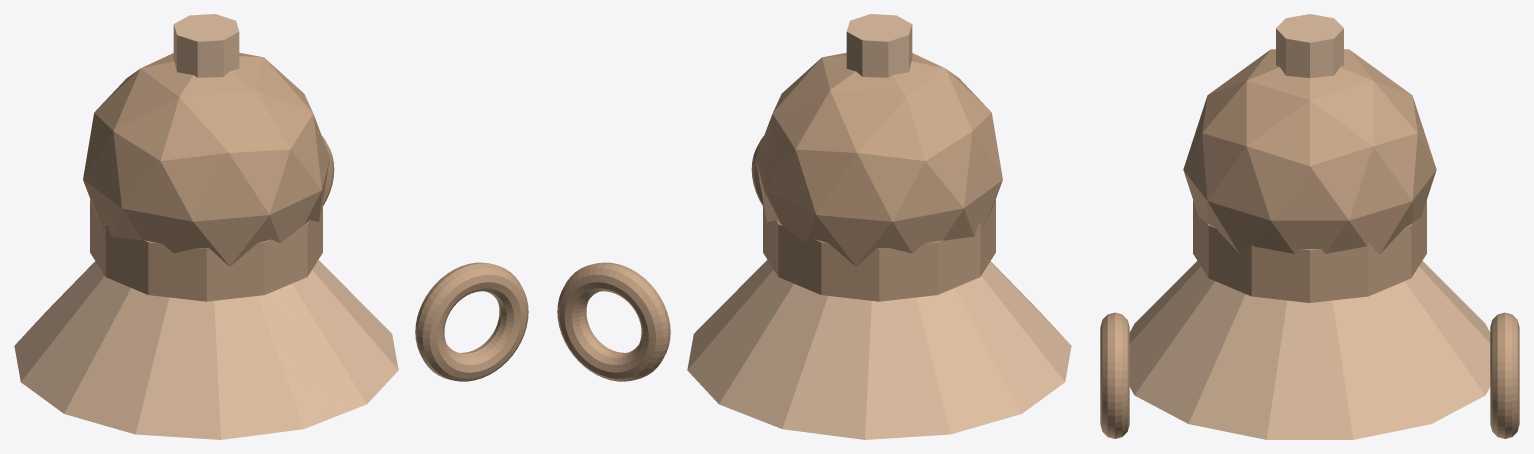
Rendered from 18-Casas_decor_olla_barro.glb.
3 views of the same model, side by side, from view 1: azimuth 30°, elevation 25°; view 2: azimuth 150°, elevation 25°; view 3: azimuth 270°, elevation 25° (orthographic).
Visible parts, largest first — view 1: SM_Olla_Cuerpo, SM_Olla_Tapa, SM_Olla_Cuello, SM_Olla_Asa, SM_Olla_Pomo; view 2: SM_Olla_Cuerpo, SM_Olla_Tapa, SM_Olla_Cuello, SM_Olla_Asa.001, SM_Olla_Pomo; view 3: SM_Olla_Cuerpo, SM_Olla_Tapa, SM_Olla_Cuello, SM_Olla_Pomo, SM_Olla_Asa, SM_Olla_Asa.001.
Boxes of the visible parts, left/top/right/bottom form: SM_Olla_Cuerpo: left=14, top=260, right=398, bottom=439; SM_Olla_Tapa: left=83, top=52, right=329, bottom=266; SM_Olla_Cuello: left=90, top=199, right=322, bottom=301; SM_Olla_Asa: left=415, top=262, right=528, bottom=381; SM_Olla_Pomo: left=173, top=14, right=239, bottom=77; SM_Olla_Cuerpo: left=687, top=260, right=1071, bottom=439; SM_Olla_Tapa: left=756, top=52, right=1002, bottom=266; SM_Olla_Cuello: left=763, top=199, right=995, bottom=301; SM_Olla_Asa.001: left=557, top=262, right=670, bottom=381; SM_Olla_Pomo: left=846, top=14, right=912, bottom=77; SM_Olla_Cuerpo: left=1129, top=261, right=1490, bottom=439; SM_Olla_Tapa: left=1183, top=49, right=1436, bottom=254; SM_Olla_Cuello: left=1193, top=200, right=1426, bottom=302; SM_Olla_Pomo: left=1276, top=14, right=1343, bottom=77; SM_Olla_Asa: left=1100, top=312, right=1129, bottom=438; SM_Olla_Asa.001: left=1490, top=312, right=1519, bottom=438.
Size of the model in its own units: 0.46 by 0.375 by 0.43.
